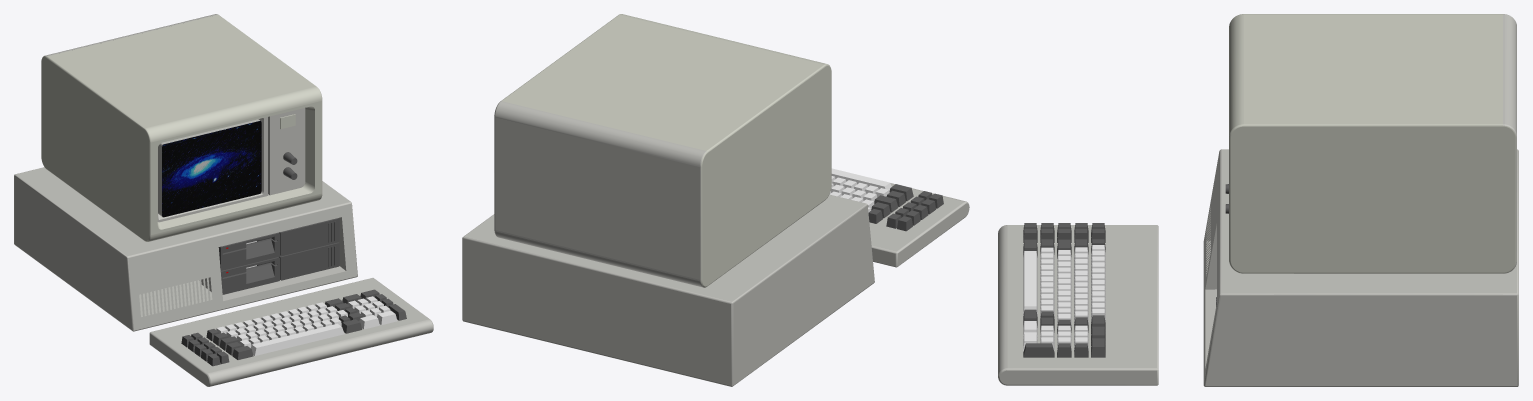
Rendered from ibm-5150.glb.
3 views of the same model, side by side, from view 1: azimuth 30°, elevation 25°; view 2: azimuth 150°, elevation 25°; view 3: azimuth 270°, elevation 25° (orthographic). The views are drawn at different scales.
Parts seen in each view (by area): view 1: Object_9, Object_10, Object_8, Object_7, Object_11; view 2: Object_9, Object_10, Object_8, Object_11; view 3: Object_10, Object_9, Object_11, Object_8.
Part boxes in pixels (bbox=[...]): Object_9: bbox=[14, 14, 433, 386]; Object_10: bbox=[41, 14, 322, 241]; Object_8: bbox=[181, 152, 406, 366]; Object_7: bbox=[162, 121, 261, 217]; Object_11: bbox=[216, 296, 397, 355]; Object_9: bbox=[462, 101, 969, 386]; Object_10: bbox=[501, 14, 831, 287]; Object_8: bbox=[868, 184, 943, 231]; Object_11: bbox=[829, 168, 891, 212]; Object_10: bbox=[1229, 14, 1516, 273]; Object_9: bbox=[998, 14, 1518, 386]; Object_11: bbox=[1023, 245, 1105, 351]; Object_8: bbox=[1023, 184, 1228, 357].
Bounding box in the file's own units: 409 × 321 × 617.
Materials: 8 (1 with a texture image).
